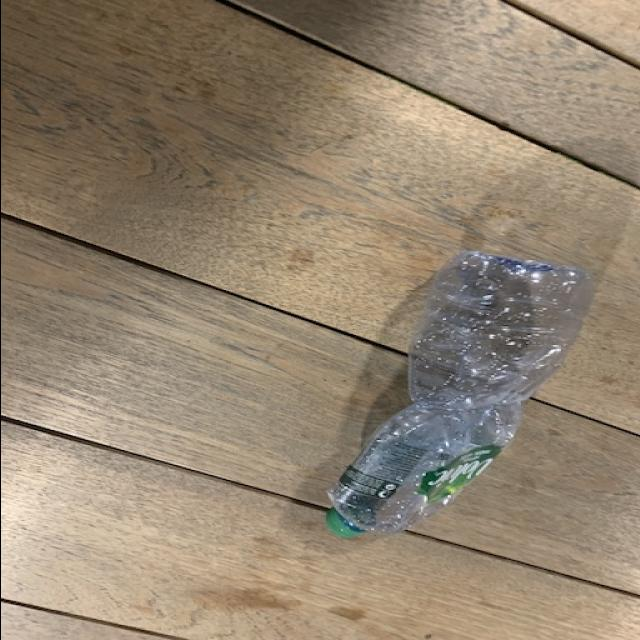PET: (320, 252, 596, 544)
